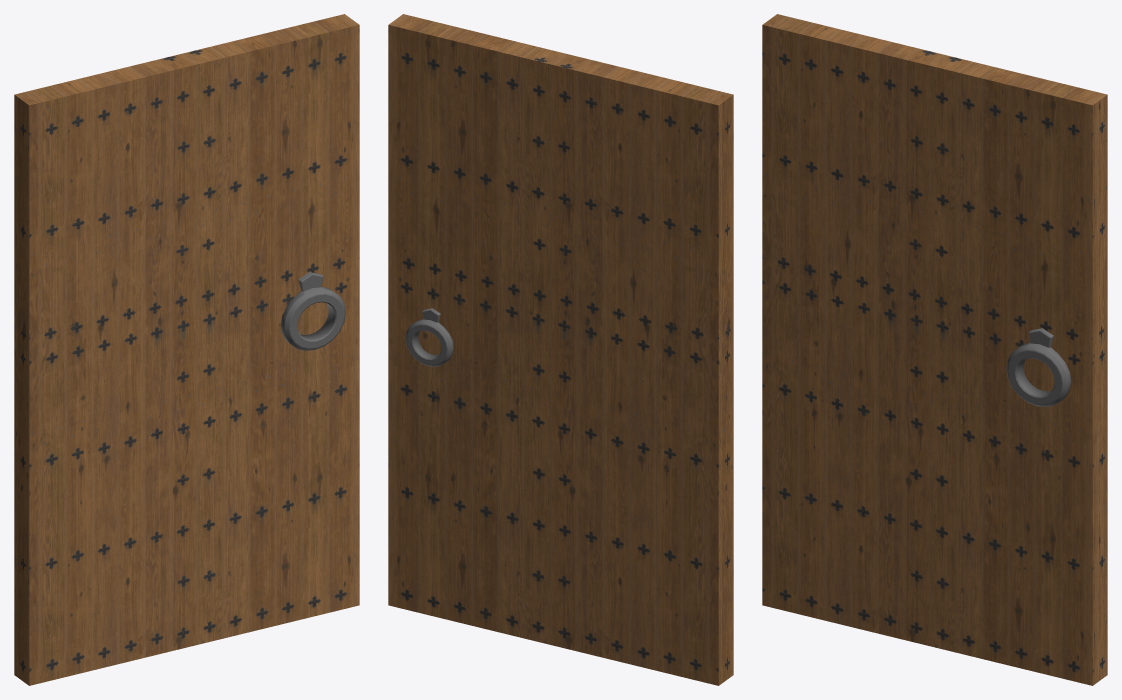
The model's file is Door_Underground.fbx.
3 views of the same model, side by side, from view 1: azimuth 30°, elevation 25°; view 2: azimuth 150°, elevation 25°; view 3: azimuth 330°, elevation 25° (orthographic).
Visible parts, largest first — view 1: Door_Underground; view 2: Door_Underground; view 3: Door_Underground.
Part boxes in pixels (left/top/right/bottom): Door_Underground: left=14, top=14, right=359, bottom=685; Door_Underground: left=388, top=14, right=733, bottom=685; Door_Underground: left=762, top=14, right=1107, bottom=685.
Size of the model in its own units: 1.66 by 2.79 by 0.2439.
